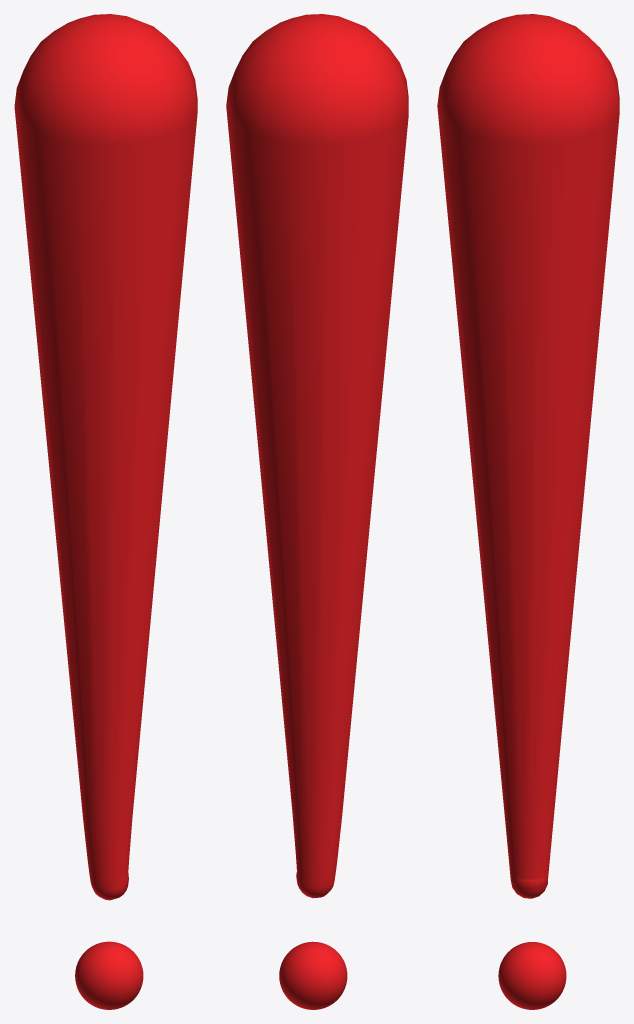
The model's file is Exclamation mark.fbx.
3 views of the same model, side by side, from view 1: azimuth 30°, elevation 25°; view 2: azimuth 150°, elevation 25°; view 3: azimuth 270°, elevation 25° (orthographic).
Visible parts, largest first — view 1: node_id5, node_id7; view 2: node_id5, node_id7; view 3: node_id5, node_id7.
Boxes of the visible parts, left/top/right/bottom form: node_id5: left=14, top=14, right=197, bottom=900; node_id7: left=75, top=941, right=143, bottom=1009; node_id5: left=226, top=14, right=408, bottom=898; node_id7: left=279, top=941, right=347, bottom=1009; node_id5: left=437, top=14, right=619, bottom=898; node_id7: left=498, top=942, right=566, bottom=1009.
Size of the model in its own units: 0.754 by 4.46 by 0.7498.
Materials: 2 (2 with a texture image).
